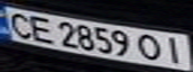2: (51, 19, 78, 49)
5: (90, 25, 115, 55)
8: (72, 22, 96, 52)
9: (112, 28, 133, 57)
C: (3, 9, 36, 39)
E: (24, 14, 57, 44)
I: (157, 34, 190, 65)
O: (136, 32, 166, 62)
